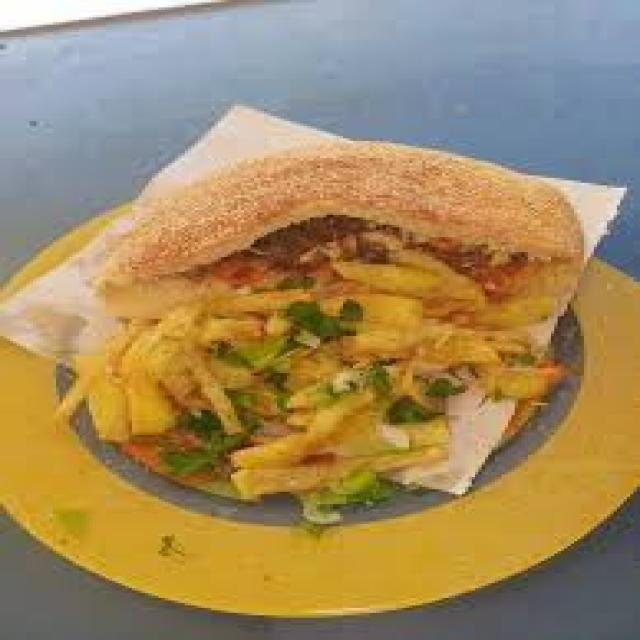Sandwitch tounsi: (60, 149, 632, 370)
